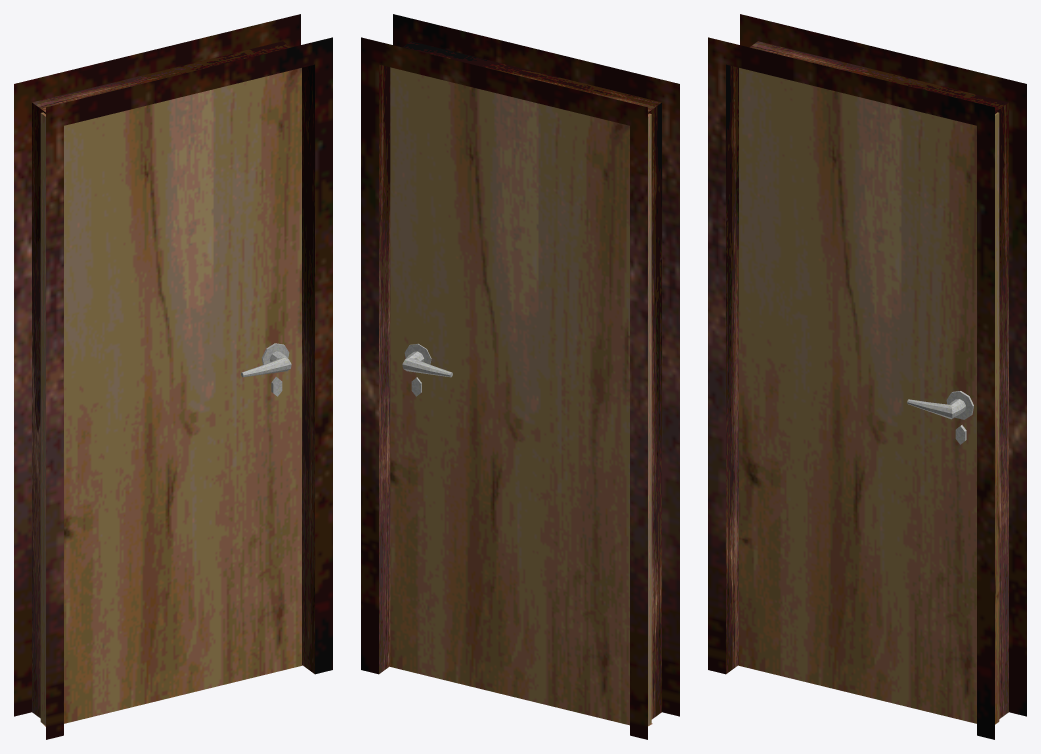
File: Porta.fbx
3 renders of one model, left to right at view 1: azimuth 30°, elevation 25°; view 2: azimuth 150°, elevation 25°; view 3: azimuth 330°, elevation 25°, orthographic.
Visible parts, largest first — view 1: Porta, Suporte de Porta, Maçaneta; view 2: Porta, Suporte de Porta, Maçaneta; view 3: Porta, Suporte de Porta, Maçaneta.
Part boxes in pixels (x1,y1,x2,y2): Porta: (40, 68, 302, 726); Suporte de Porta: (14, 14, 332, 739); Maçaneta: (241, 351, 291, 377); Porta: (390, 67, 652, 726); Suporte de Porta: (361, 14, 679, 739); Maçaneta: (402, 351, 452, 377); Porta: (738, 68, 999, 724); Suporte de Porta: (708, 14, 1026, 739); Maçaneta: (907, 399, 965, 419).
Size of the model in its own units: 160 by 338 by 32.13.
1 material, 1 textured.
